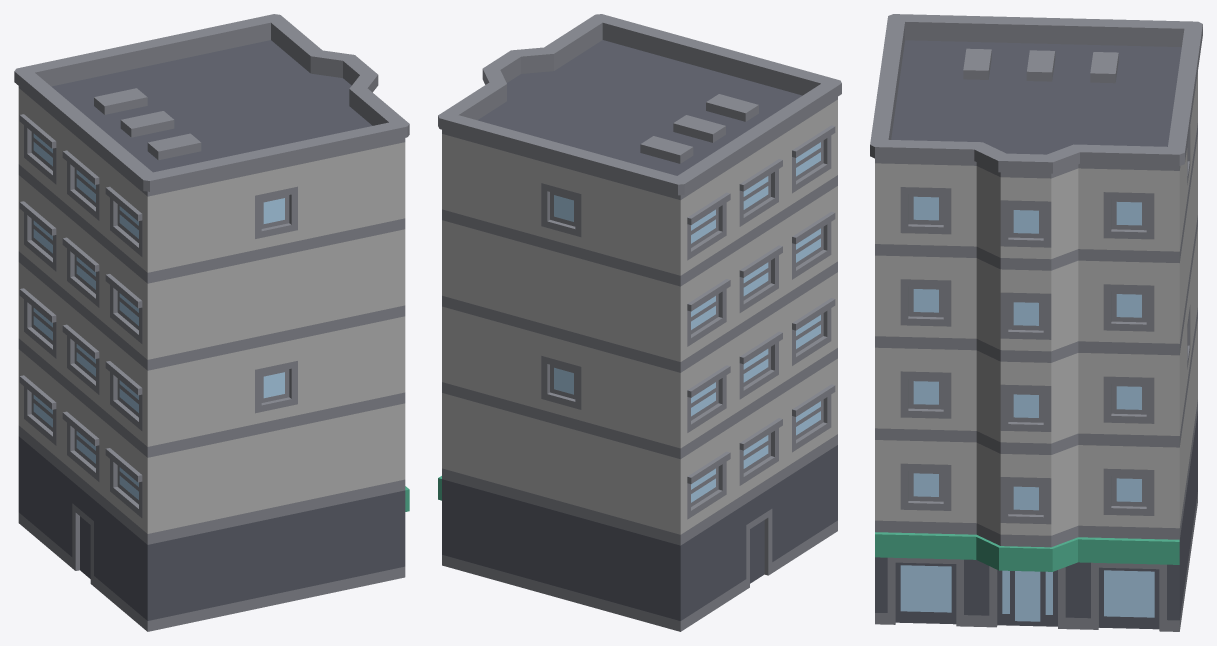
Rendered from large_buildingE.003.obj.
3 renders of one model, left to right at view 1: azimuth 30°, elevation 25°; view 2: azimuth 150°, elevation 25°; view 3: azimuth 270°, elevation 25°, orthographic. The views are drawn at different scales.
Visible parts, largest first — view 1: large_buildingE.001; view 2: large_buildingE.001; view 3: large_buildingE.001.
Boxes of the visible parts, x1,y1,x2,y2 form: large_buildingE.001: [14, 14, 409, 631]; large_buildingE.001: [438, 14, 841, 631]; large_buildingE.001: [870, 14, 1202, 631].
Bounding box in the file's own units: 20.31 × 30.63 × 19.27.
